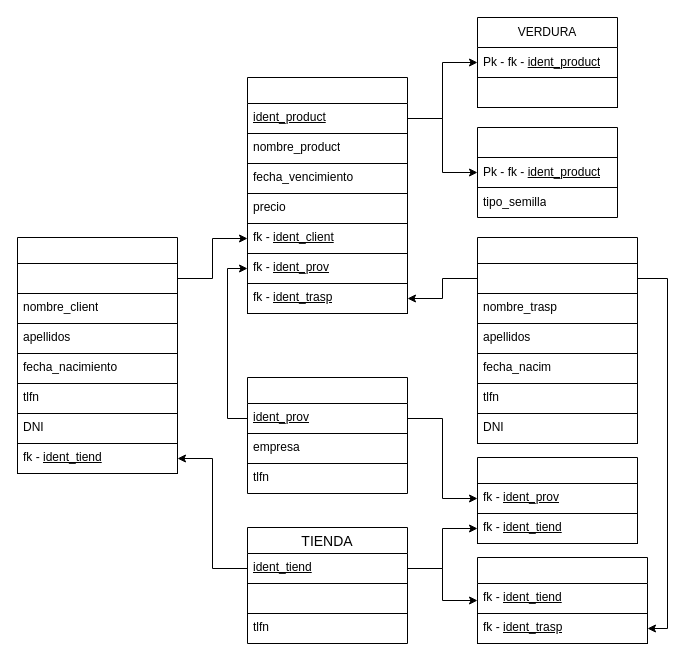
This 693x664 diagram has some shape labels left out. Here are the shapes that lost their labels. From the top down, the box of each, then its label:
(476, 76, 618, 108): parte_comestible
(246, 76, 408, 194): PRODUCTOS
(476, 126, 618, 218): FRUTA
(16, 262, 178, 294): ident_client
(16, 236, 178, 354): CLIENTE
(476, 262, 638, 294): ident_trasp
(476, 236, 638, 354): TRANSPORTISTA
(246, 376, 408, 494): PROVEEDOR
(476, 456, 638, 514): PROVEEDOR_TIENDA
(246, 582, 408, 614): nombre
(476, 556, 648, 644): TRANSPORTISTA_TIENDA
